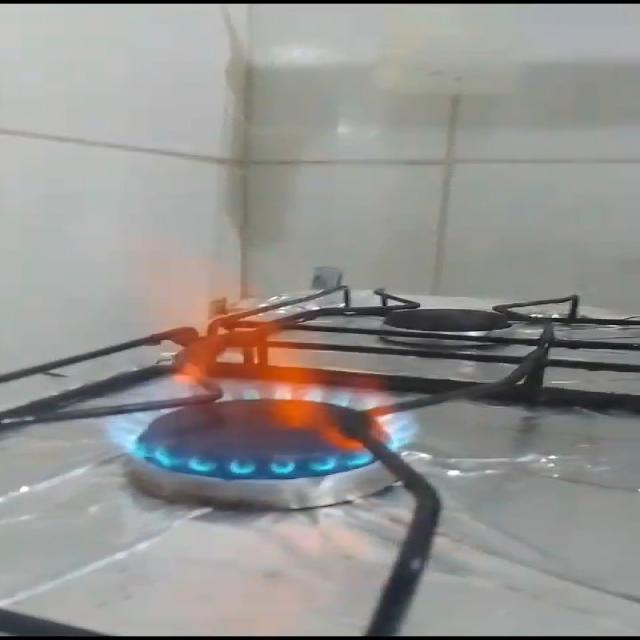fogo-ypXI: (92, 233, 423, 483)
